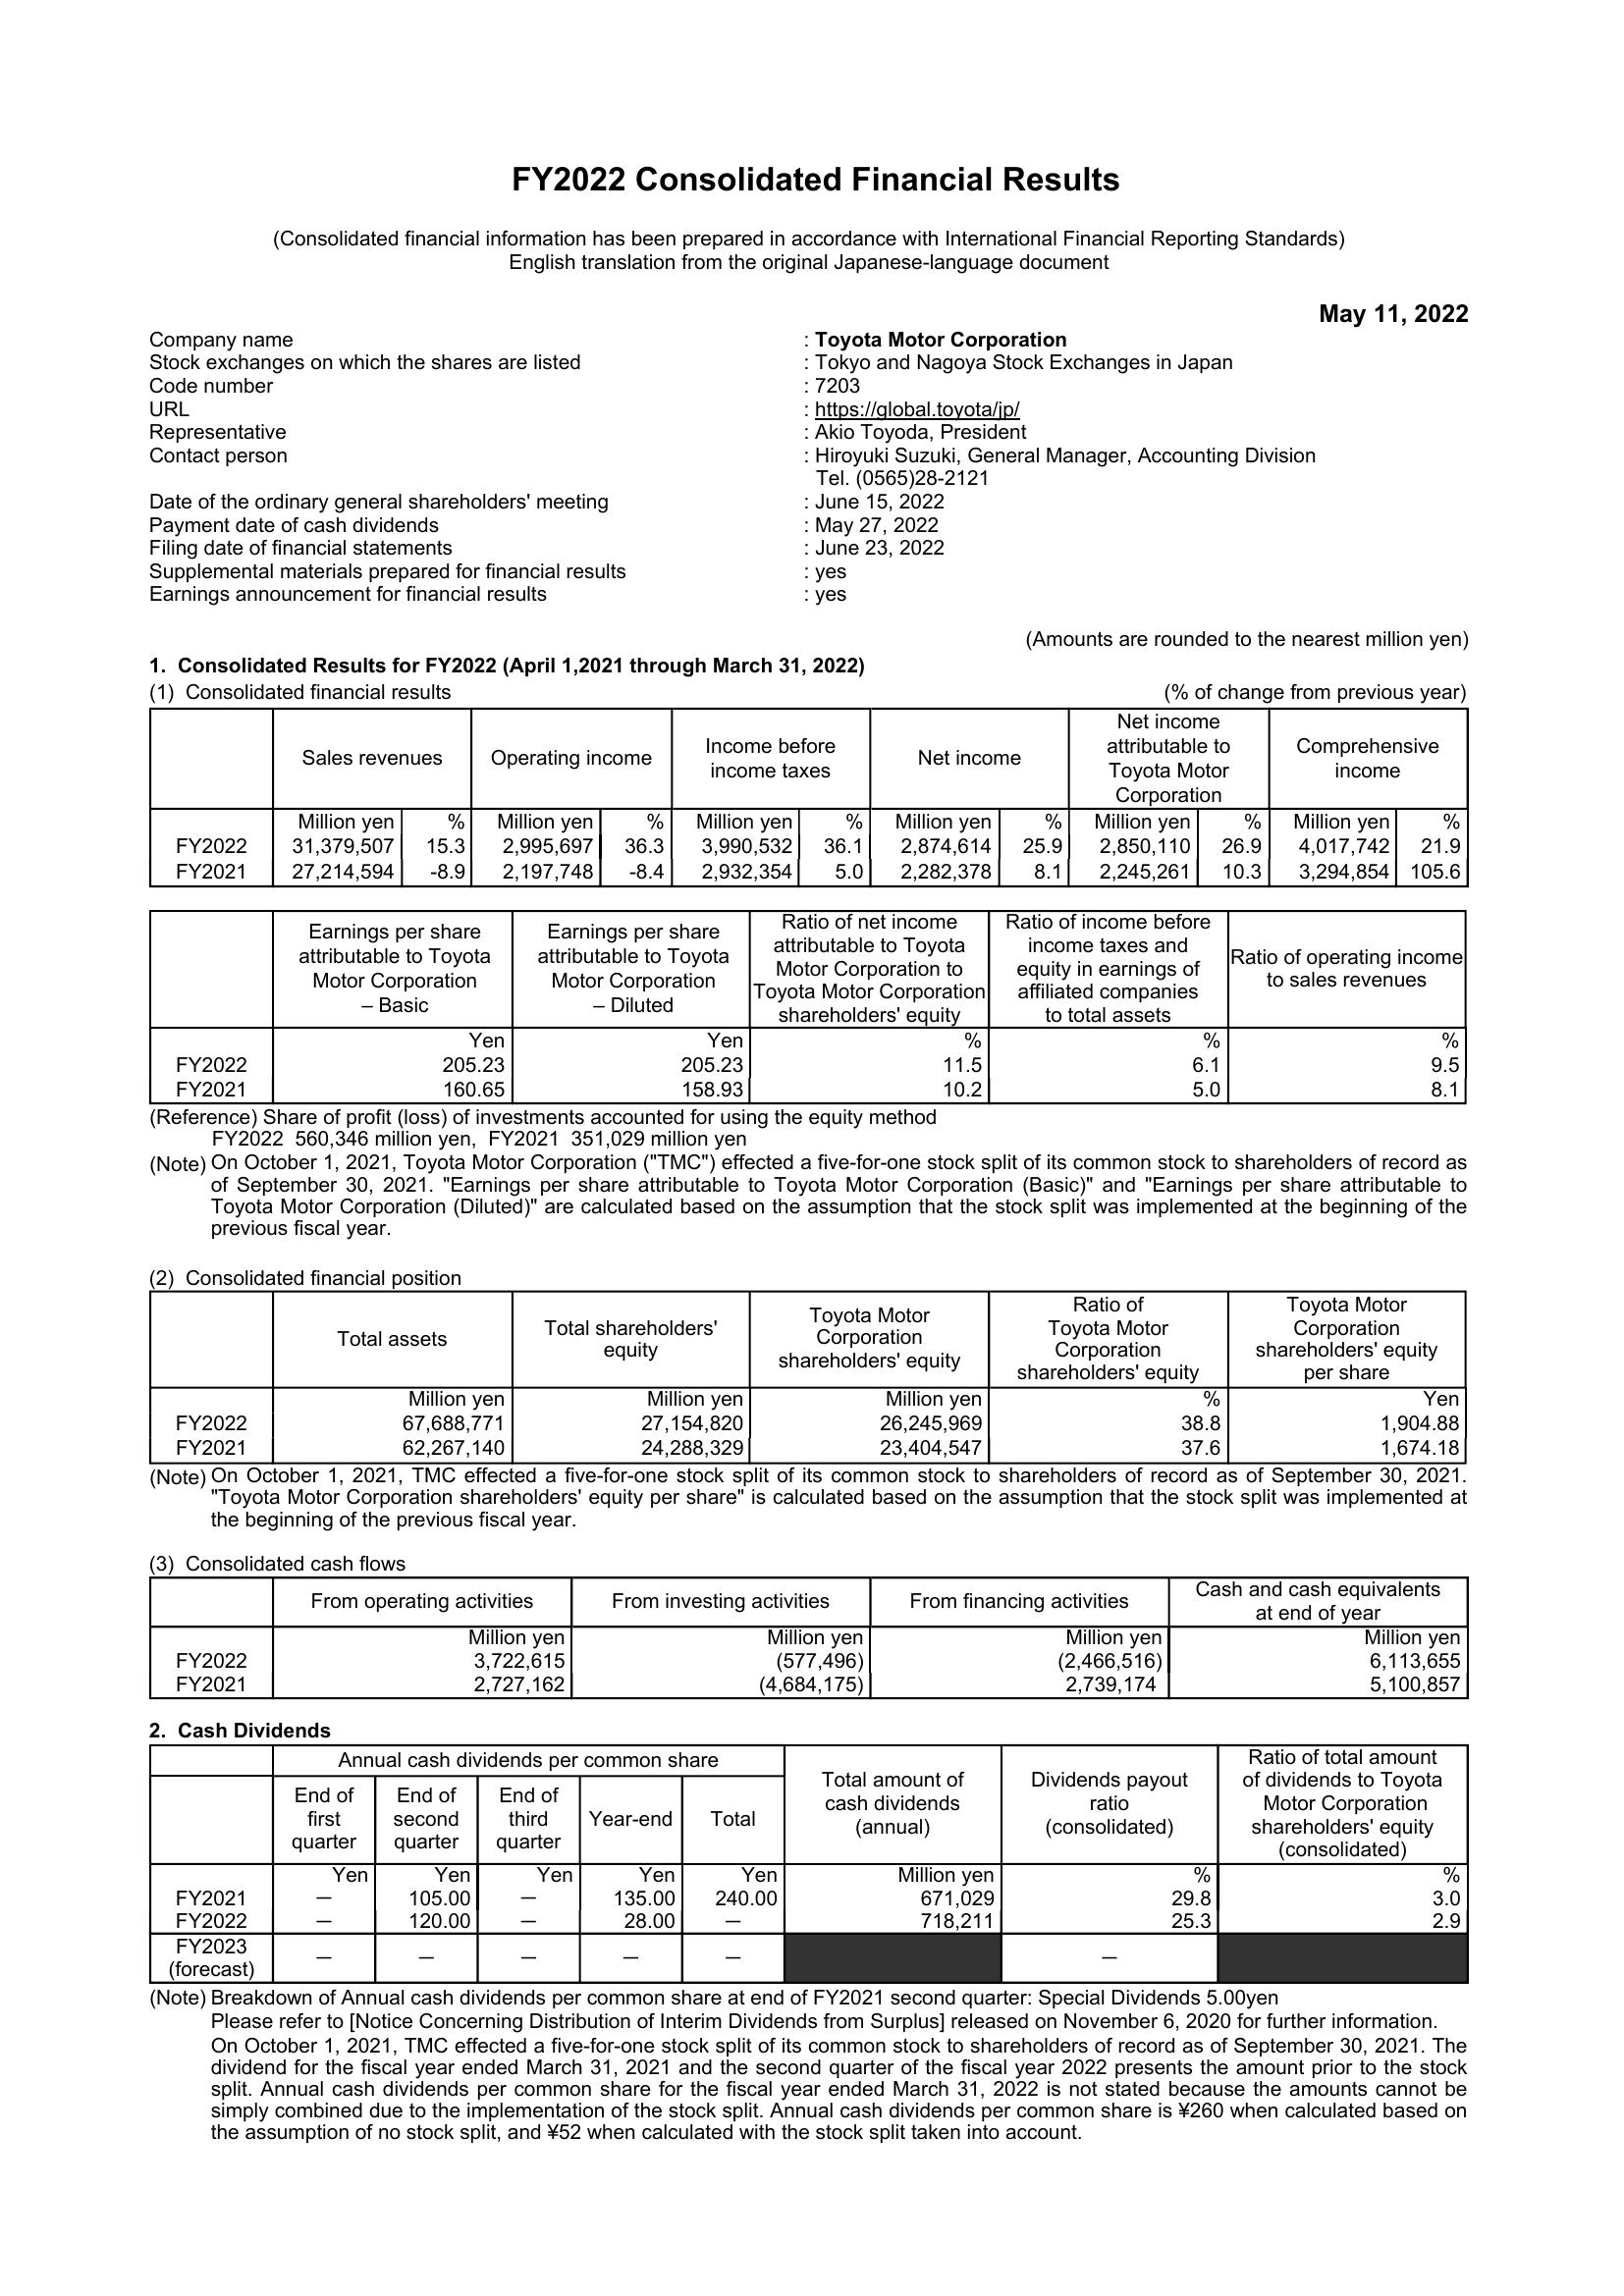Footer: (0, 2148, 1624, 2296)
Header: (0, 0, 1624, 135)
Table: (114, 1741, 1506, 1992), (105, 1245, 1506, 1472), (114, 896, 1487, 1110), (105, 694, 1487, 891), (118, 1567, 1475, 1723)
